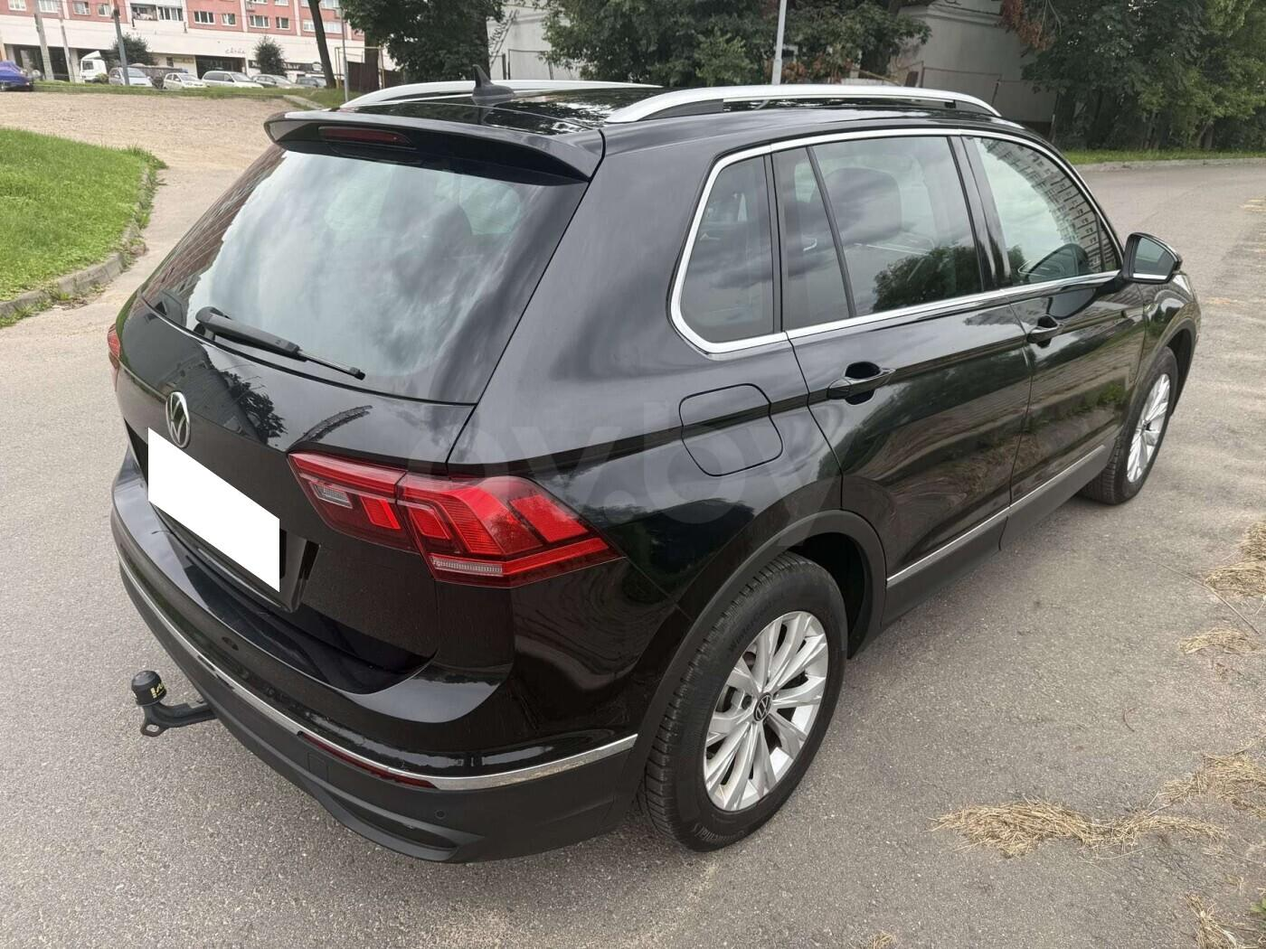Tiguan_2020-2024: (102, 83, 1204, 859)
